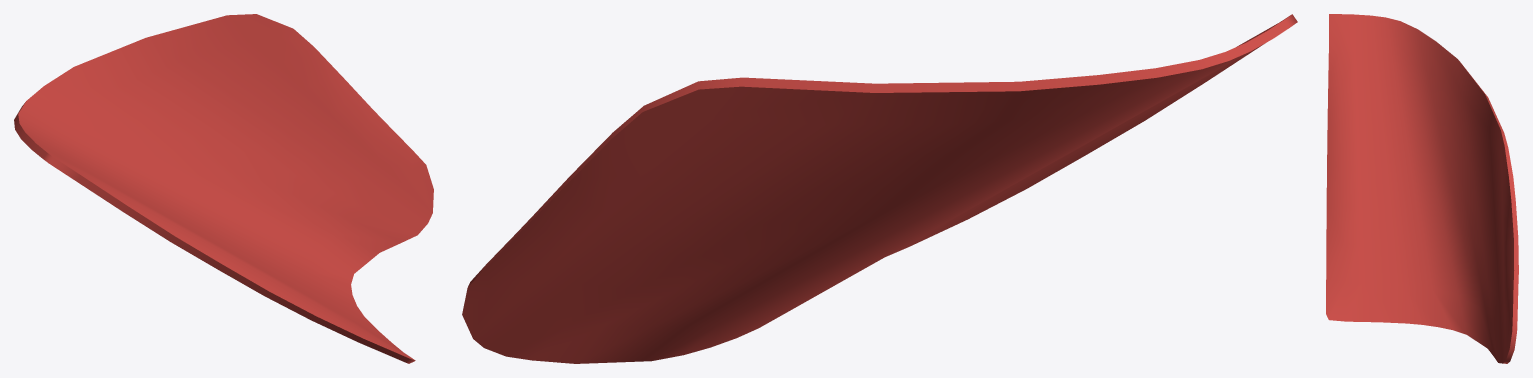
File: EC135_HOU_ZUO_collider.FBX
3 views of the same model, side by side, from view 1: azimuth 30°, elevation 25°; view 2: azimuth 150°, elevation 25°; view 3: azimuth 270°, elevation 25° (orthographic). The views are drawn at different scales.
Parts seen in each view (by area): view 1: zuo_hou_colliders; view 2: zuo_hou_colliders; view 3: zuo_hou_colliders.
Boxes of the visible parts, x1,y1,x2,y2 form: zuo_hou_colliders: [14, 14, 433, 363]; zuo_hou_colliders: [462, 14, 1297, 363]; zuo_hou_colliders: [1326, 14, 1518, 363].
Bounding box in the file's own units: 1.55 × 0.8393 × 0.7597.
